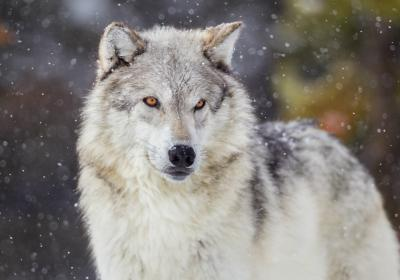Wolf: (73, 19, 400, 280)
